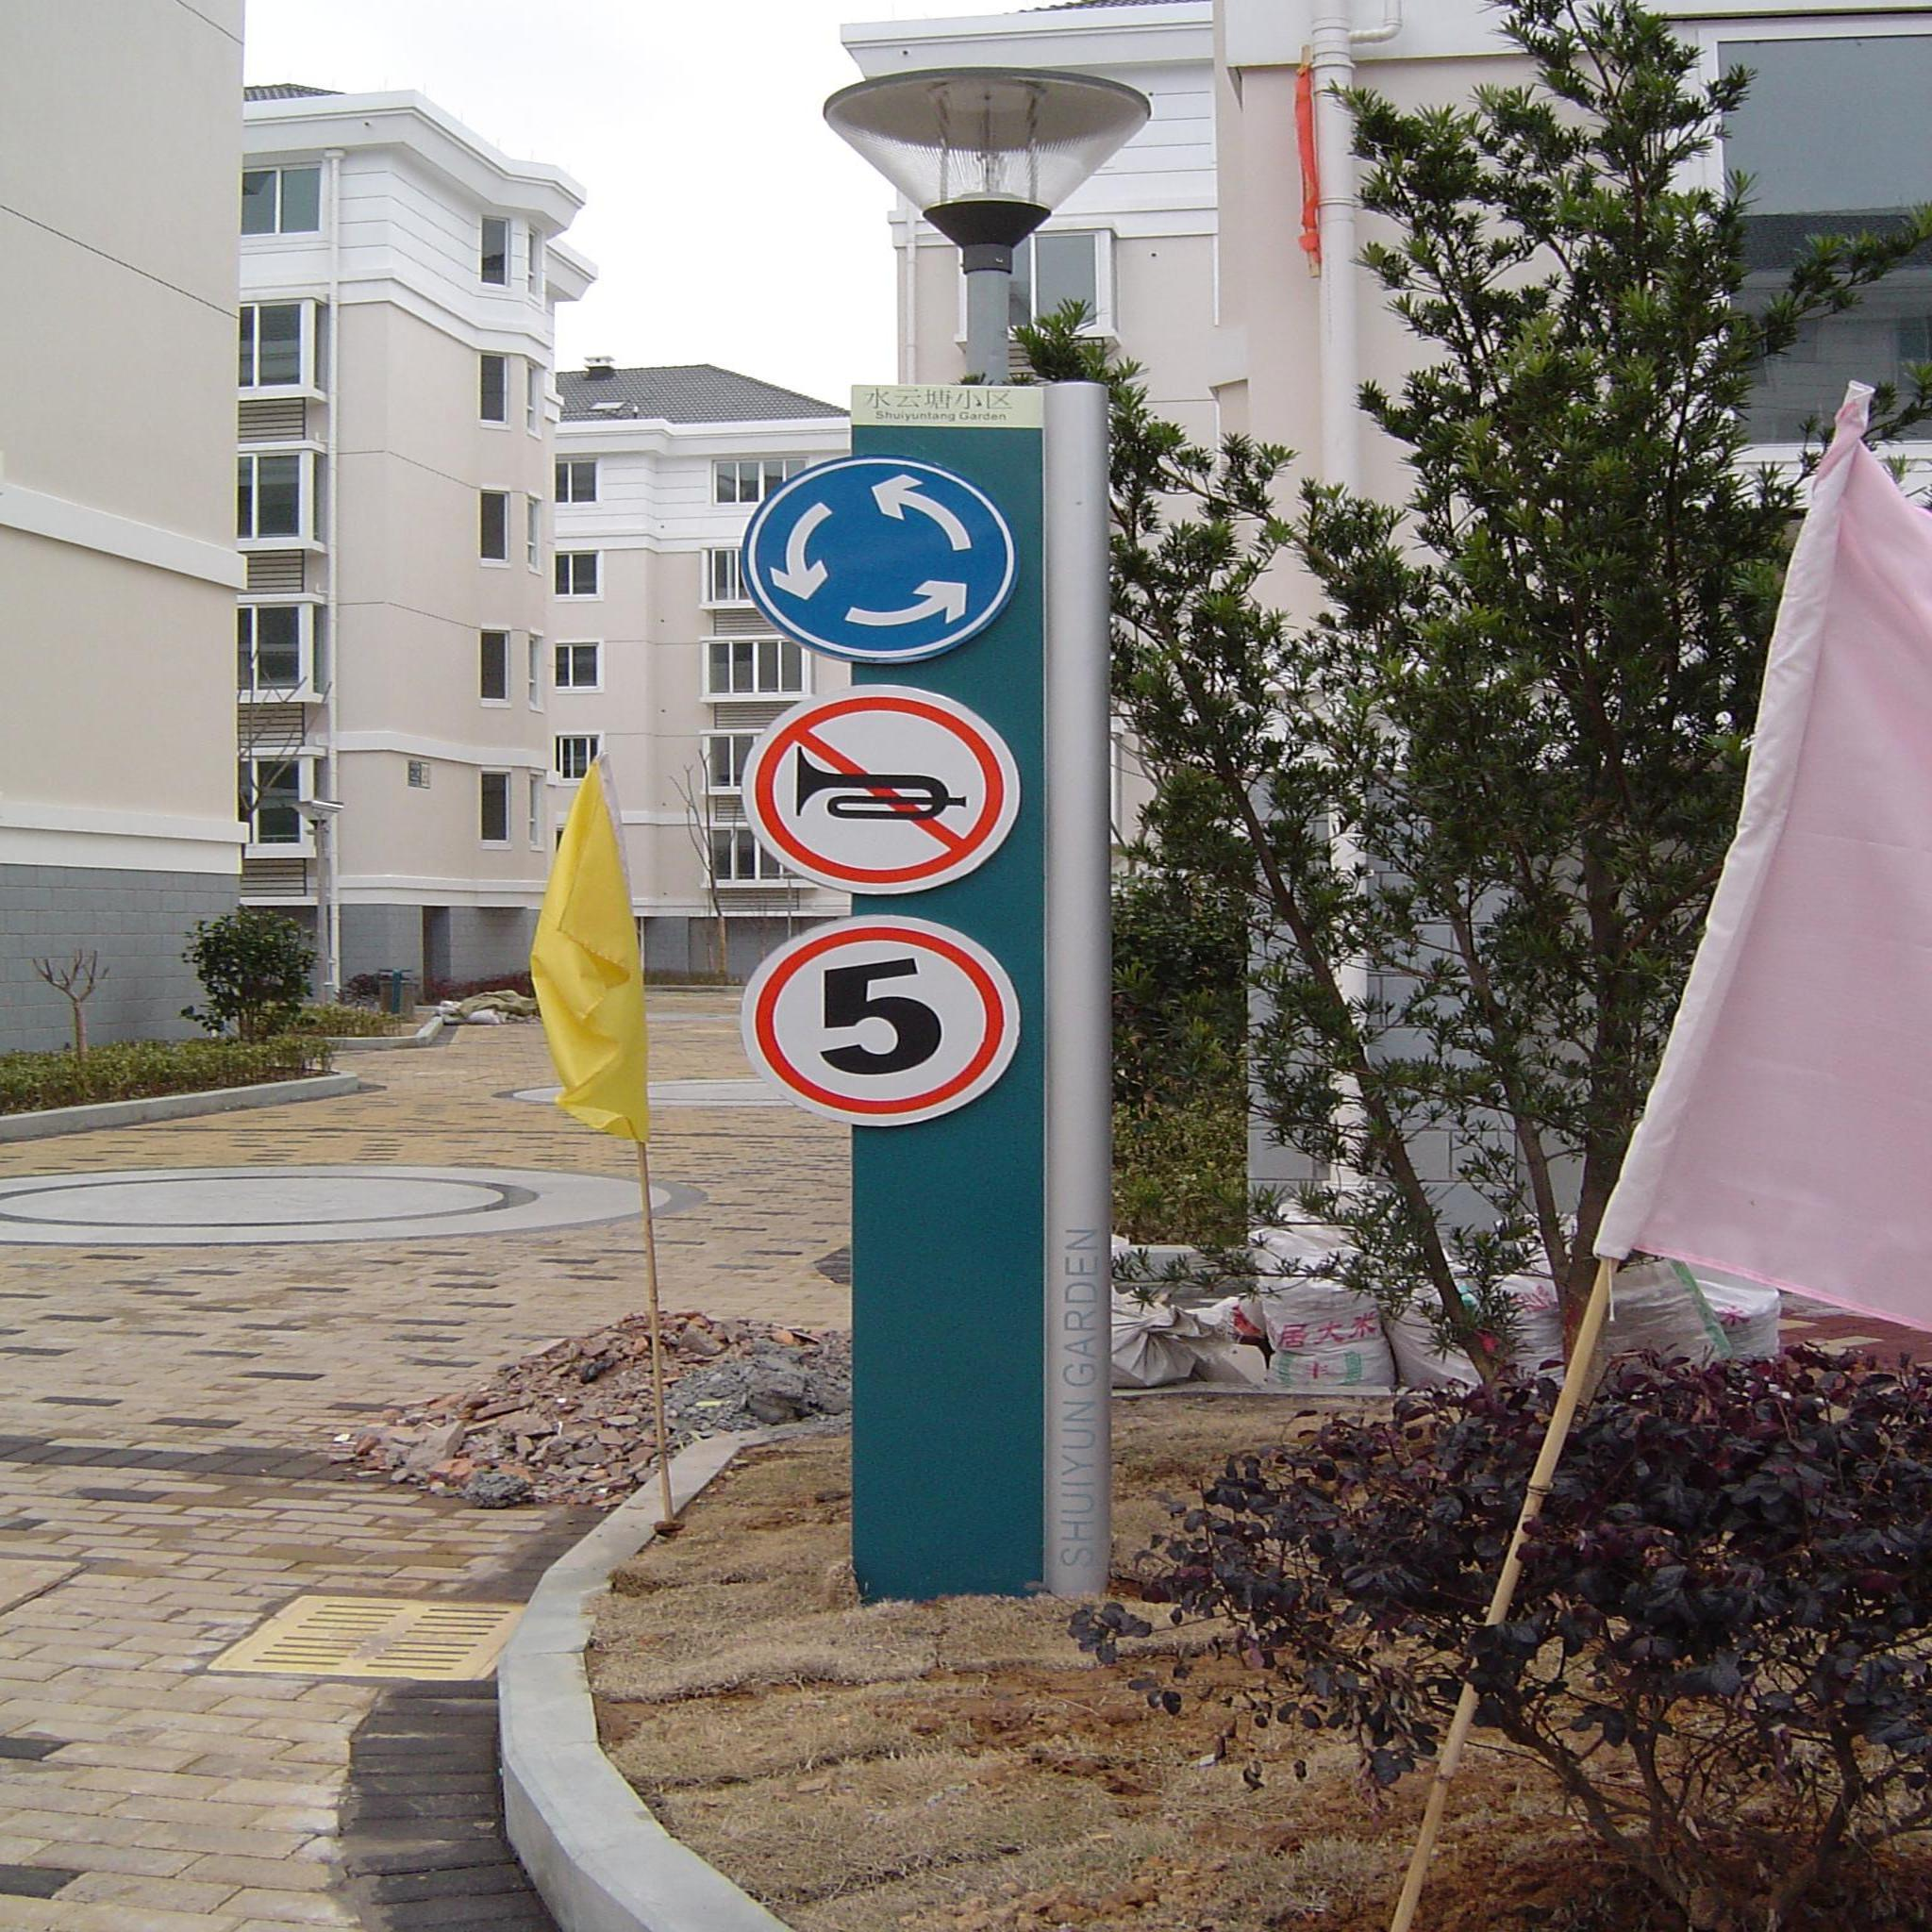i3: (743, 456, 1012, 665)
p11: (743, 685, 1021, 897)
pl5: (741, 916, 1021, 1127)
